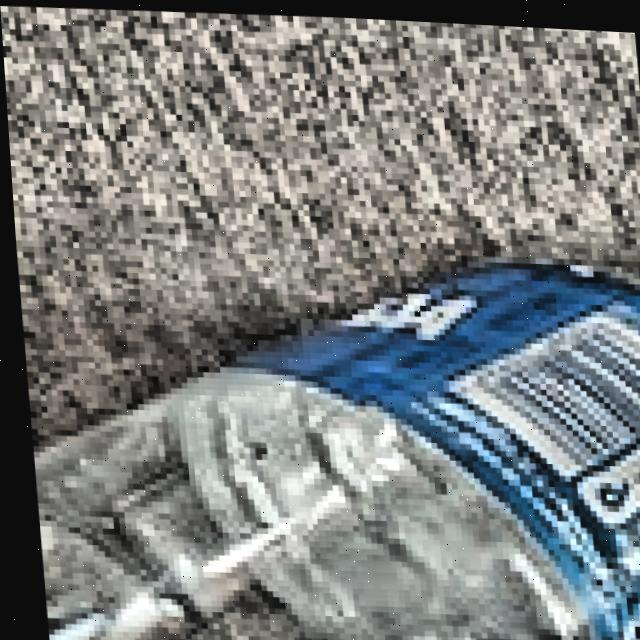plastic: (7, 137, 640, 640)
